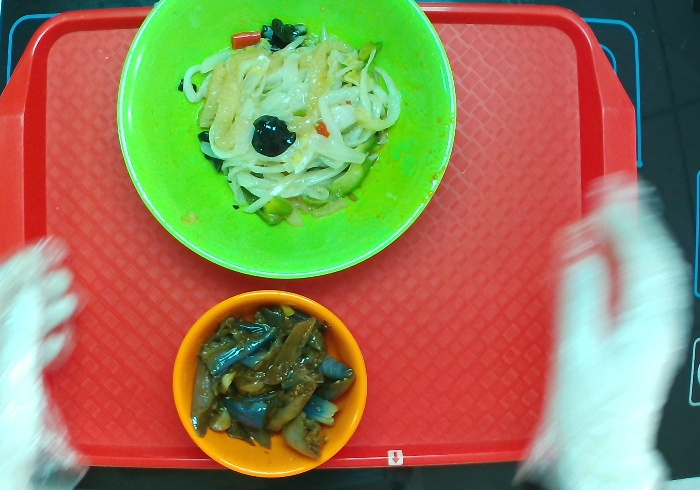YKMZ-Ju_Se_Yuan_Wan: (171, 289, 369, 480)
YKMZ-Lv_Se_Tang_Wan: (113, 1, 458, 283)
